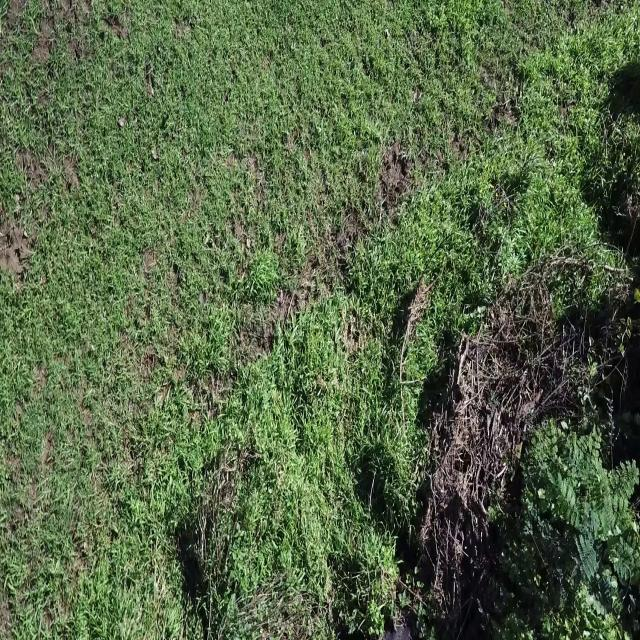Mysore-Thorn-Weed: (548, 434, 640, 597)
